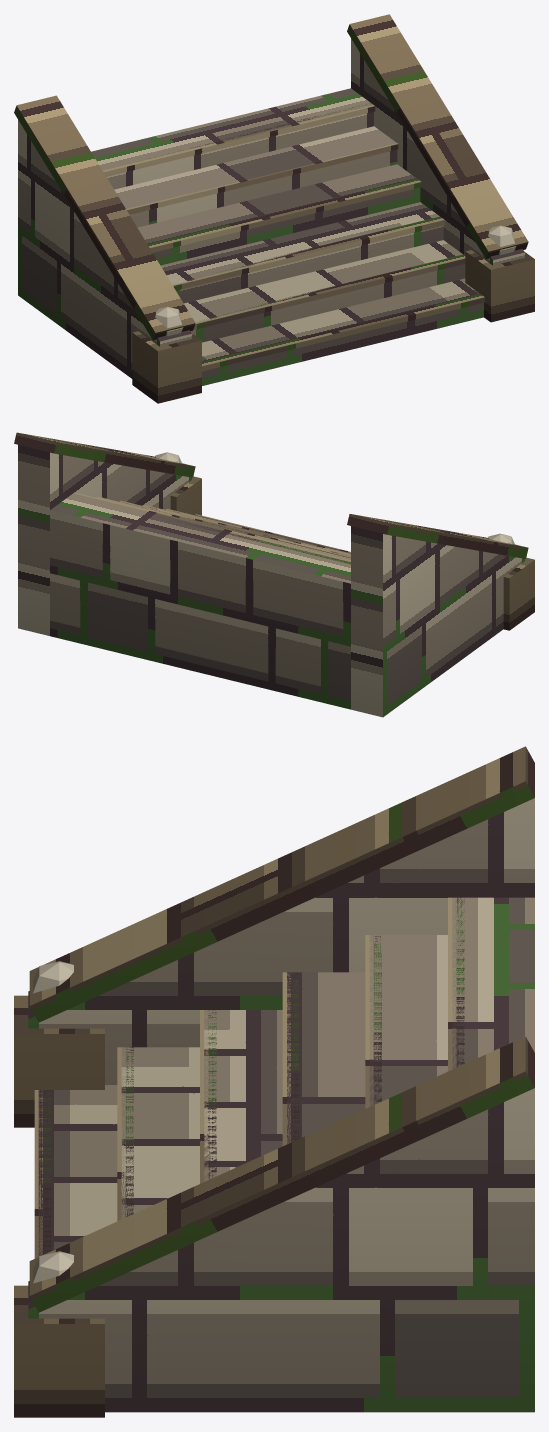
File: scene_stair_c7.glb
The picture shows the model from 3 angles, top to bottom: view 1: azimuth 30°, elevation 25°; view 2: azimuth 150°, elevation 25°; view 3: azimuth 270°, elevation 25°; orthographic projection. The views are drawn at different scales.
Parts seen in each view (by area): view 1: scene_stair_c7; view 2: scene_stair_c7; view 3: scene_stair_c7.
Part boxes in pixels (bbox=[...]): scene_stair_c7: bbox=[14, 14, 534, 403]; scene_stair_c7: bbox=[14, 432, 534, 717]; scene_stair_c7: bbox=[14, 746, 534, 1417].
Size of the model in its own units: 3.76 by 1.84 by 2.52.
2 materials, 1 textured.
